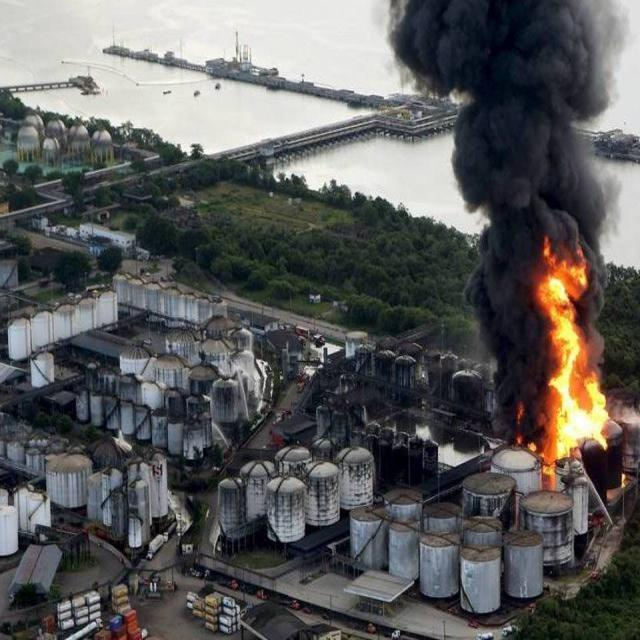Fire: (518, 227, 616, 463)
